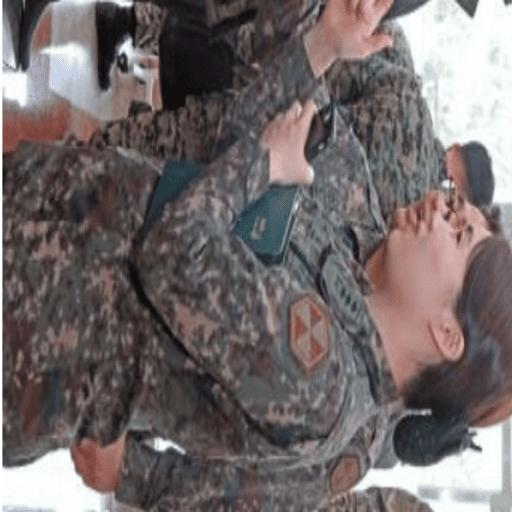korea army: (0, 39, 512, 508)
